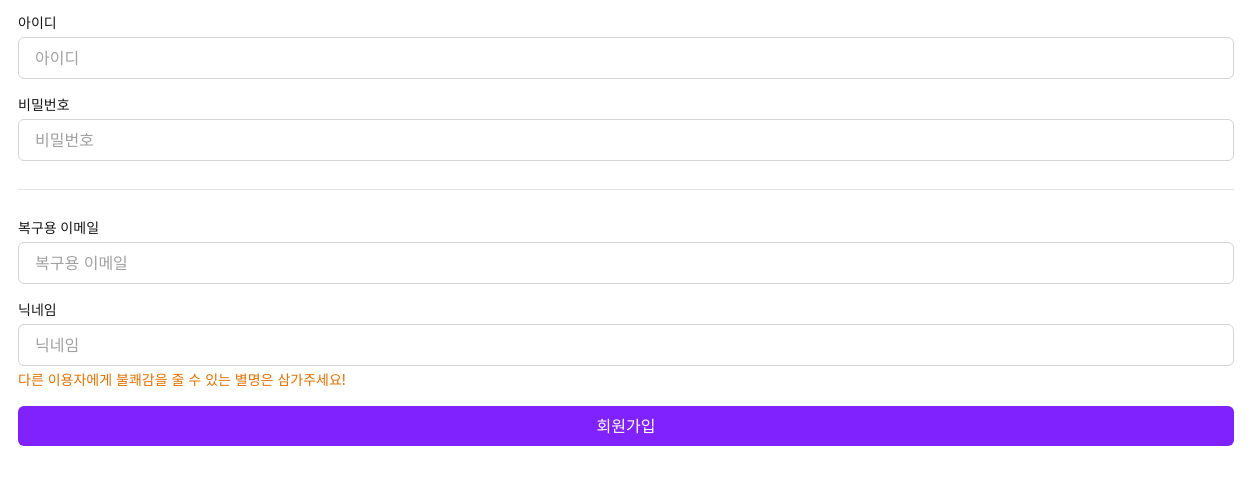
it: SignUpForm › 네트워크 오류 시 에러 메시지를 표시하고 pending을 해제한다
Type "newuser" into the field labelled "아이디" at (626, 58), box [18,37,1234,79]
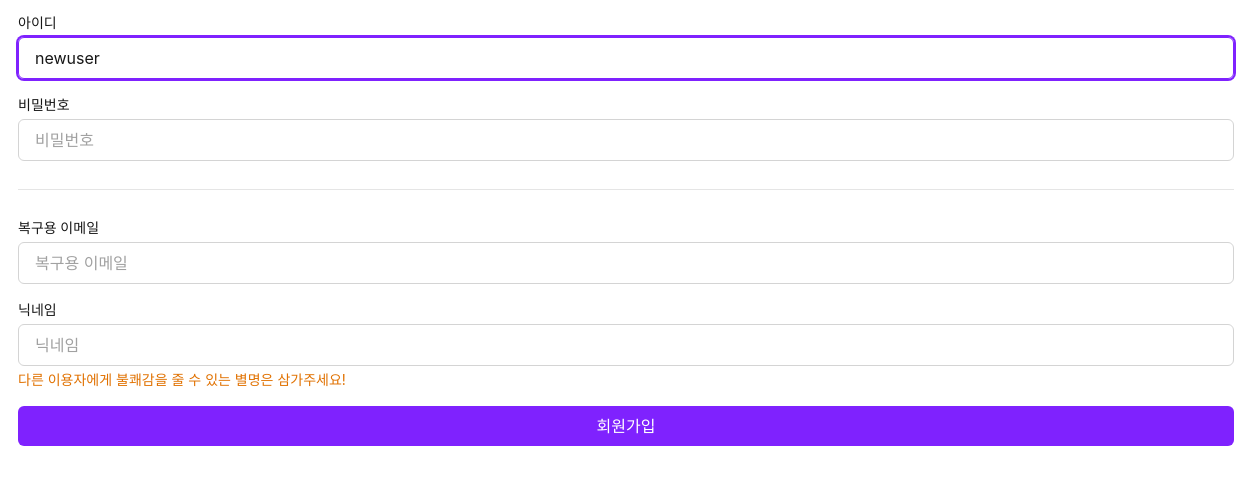
Type "Password1!" into the password field labelled "비밀번호" at (626, 140), box [18,119,1234,161]
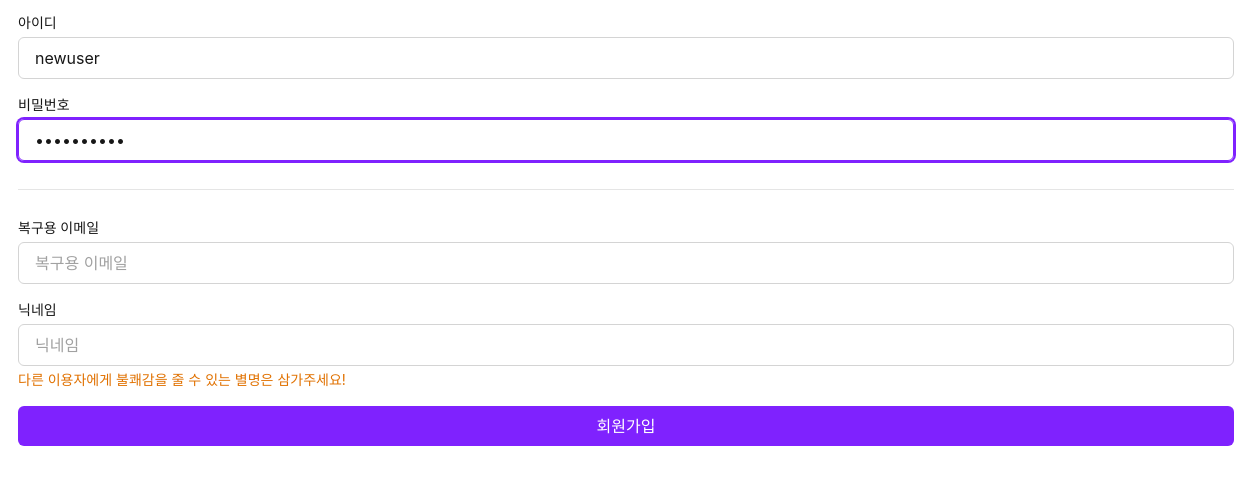
Type "new@example.com" into the field labelled "복구용 이메일" at (626, 263), box [18,242,1234,284]
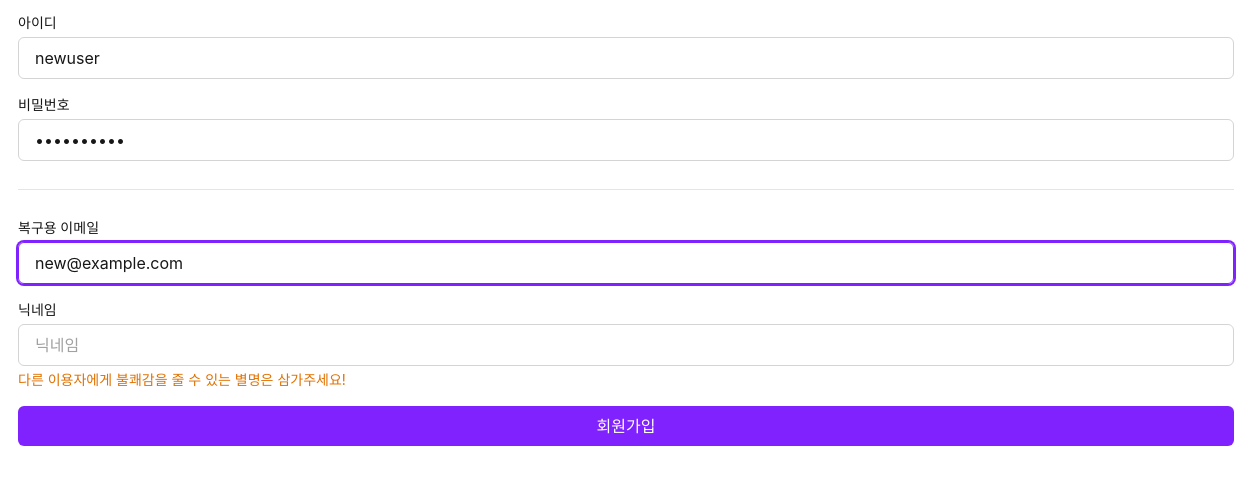
Type "New" into the field labelled "닉네임" at (626, 345), box [18,324,1234,366]
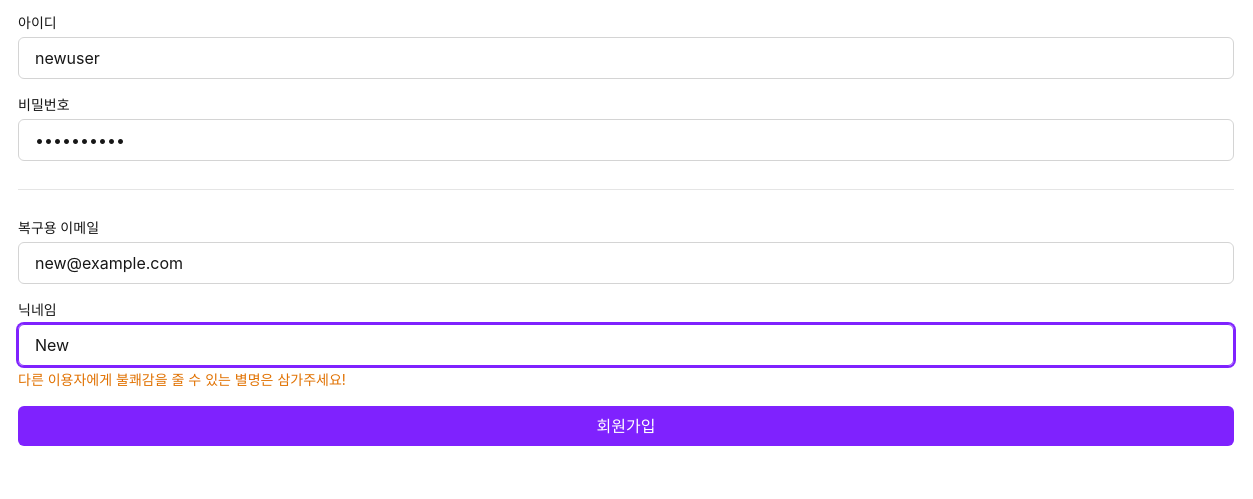
Click the button "회원가입" at (626, 426), box [18,406,1234,446]
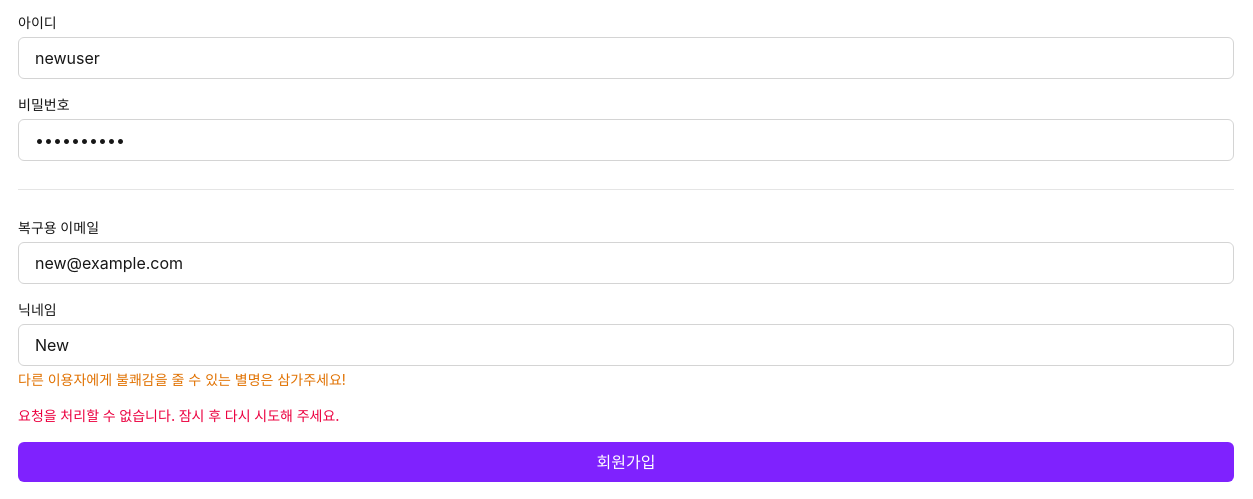
Expected: the button "회원가입" is enabled, [18,442,1234,482]
Now the message "요청을 처리할 수 없습니다. 잠시 후 다시 시도해 주세요." is shown, box [18,407,340,424]
